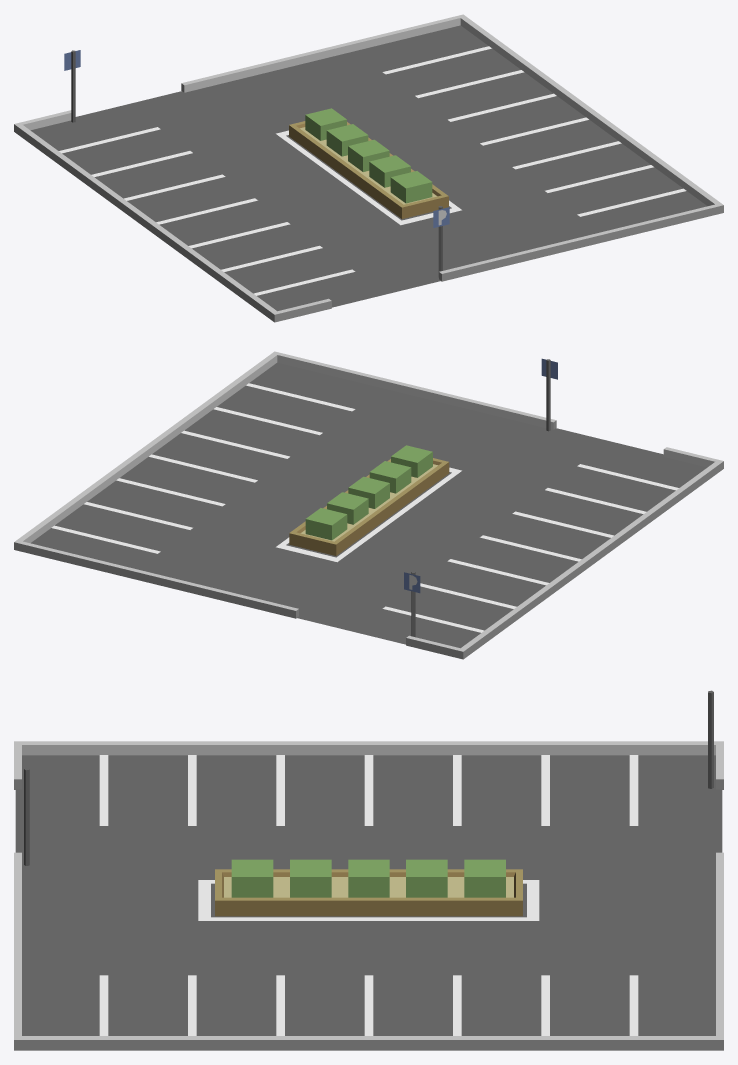
Rendered from parking_tile_2x2_002.fbx.
3 views of the same model, one above another, from view 1: azimuth 30°, elevation 25°; view 2: azimuth 150°, elevation 25°; view 3: azimuth 270°, elevation 25° (orthographic). The views are drawn at different scales.
Parts seen in each view (by area): view 1: parking_tile_2x2_002; view 2: parking_tile_2x2_002; view 3: parking_tile_2x2_002.
Part boxes in pixels (x1,y1,x2,y2): parking_tile_2x2_002: (14, 14, 723, 322); parking_tile_2x2_002: (14, 351, 723, 659); parking_tile_2x2_002: (14, 690, 723, 1050).
Bounding box in the file's own units: 1600 × 247 × 1607.
